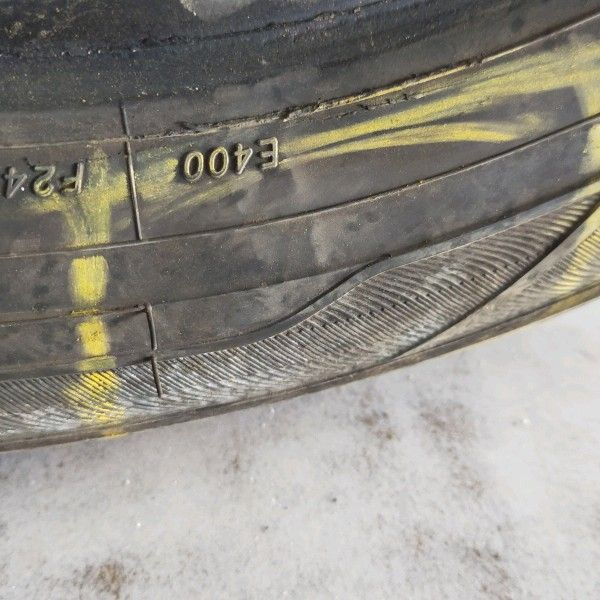CBU: (188, 178, 479, 339)
